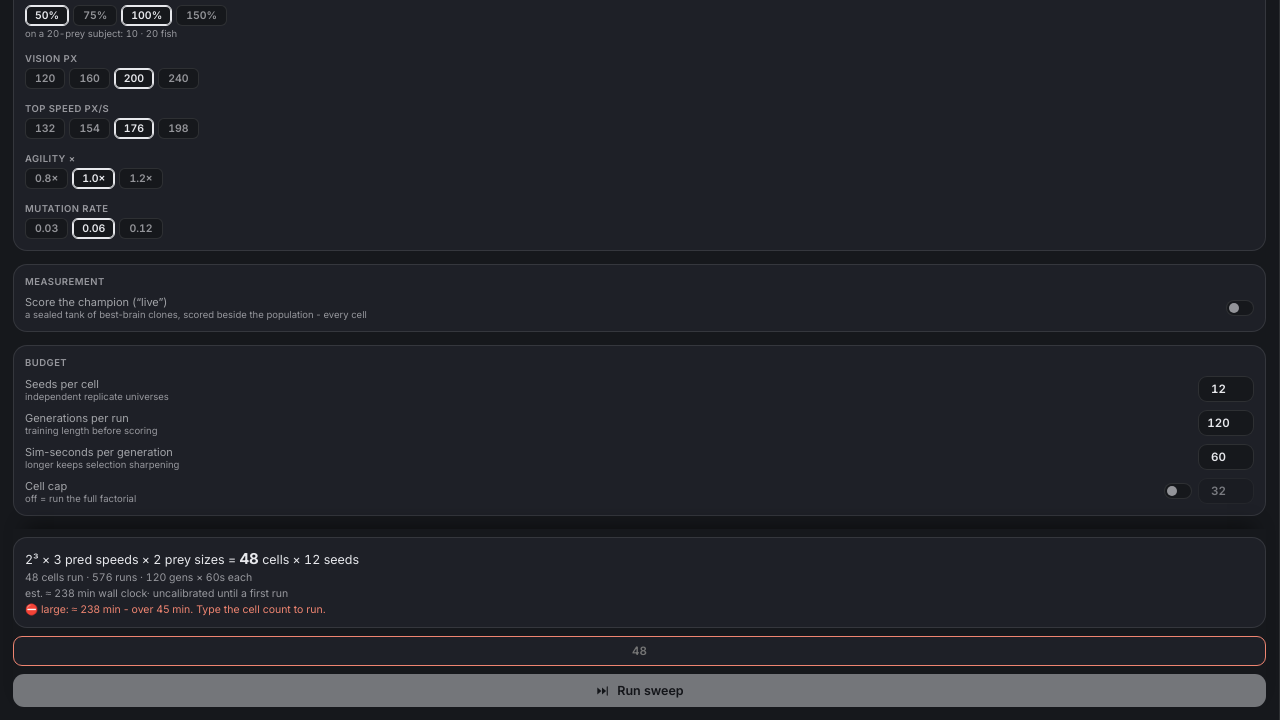
Test case: SweepDesignPanel › a confirm-tier design disables Run until the exact cell count is typed
(page scrolled)
Expected: the button "Run sweep" is disabled, [13, 674, 1266, 707]
Type "49" into the field named "type the cell count to confirm" at (640, 651), box [13, 636, 1266, 666]
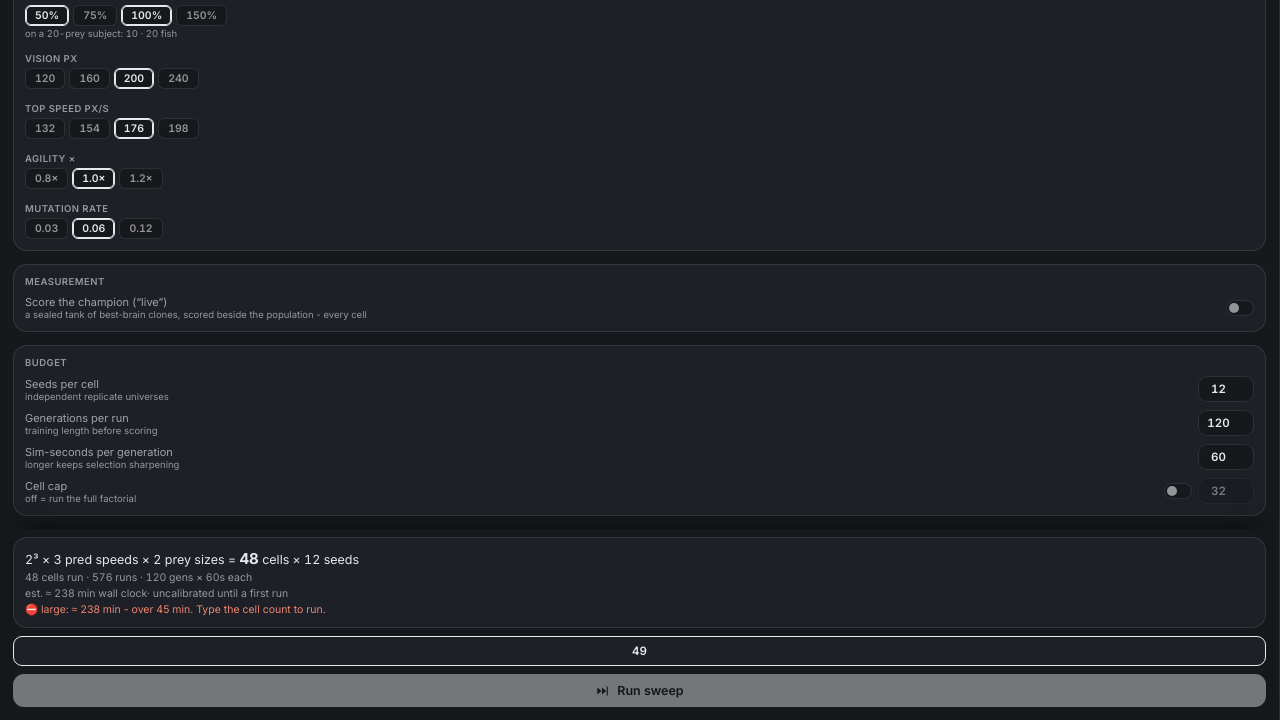
Expected: the button "Run sweep" is disabled, [13, 674, 1266, 707]
Replace the text in the field named "type the cell count to confirm" with "48" at (640, 651), box [13, 636, 1266, 666]
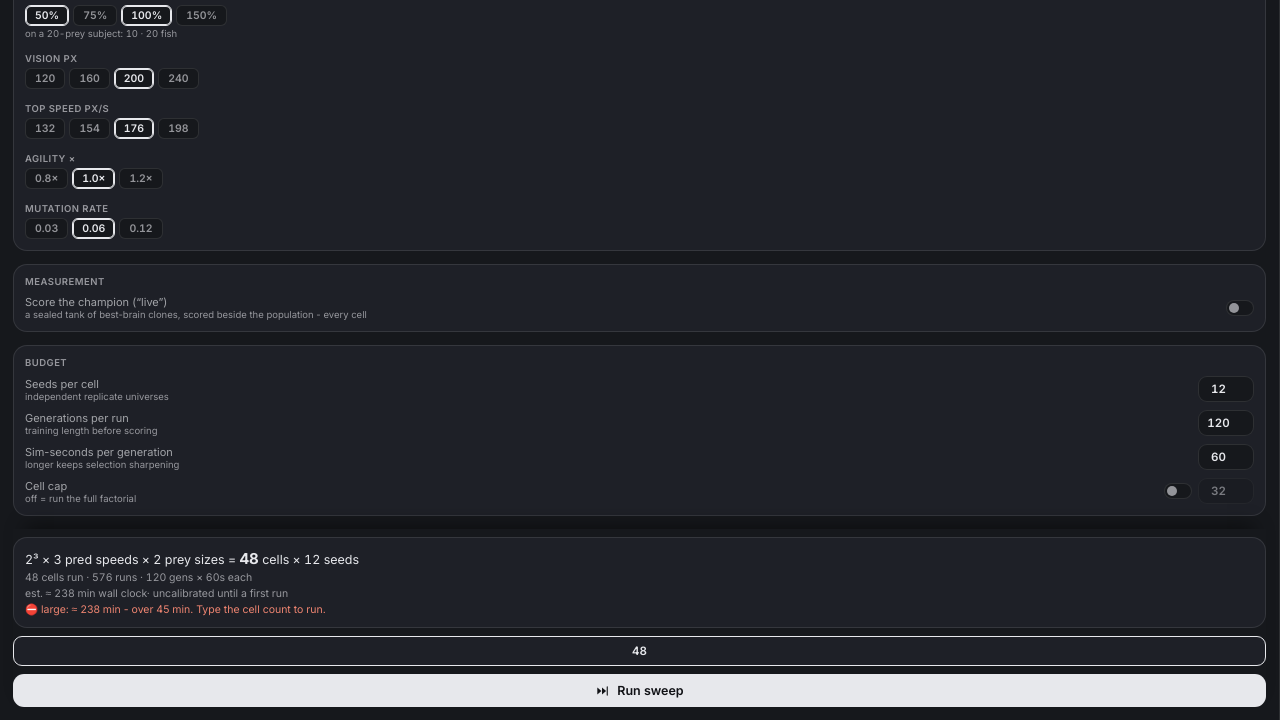
Result: the button "Run sweep" is enabled at [13, 674, 1266, 707]
